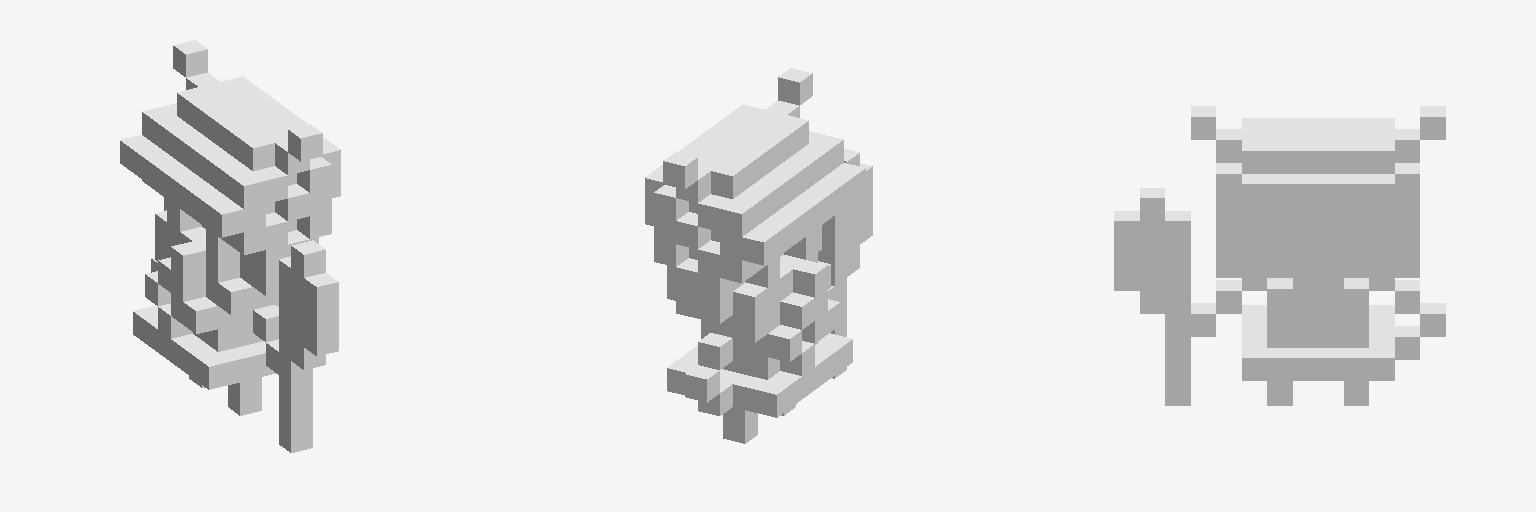
The model's file is Warriror.obj.
3 views of the same model, side by side, from view 1: azimuth 30°, elevation 25°; view 2: azimuth 150°, elevation 25°; view 3: azimuth 270°, elevation 25° (orthographic).
Parts seen in each view (by area): view 1: object 1; view 2: object 1; view 3: object 1.
Boxes of the visible parts, <box> form: object 1: <box>120,40,340,452</box>; object 1: <box>645,68,872,443</box>; object 1: <box>1114,106,1445,405</box>.
Bounding box in the file's own units: 0.6 × 1.3 × 1.3.